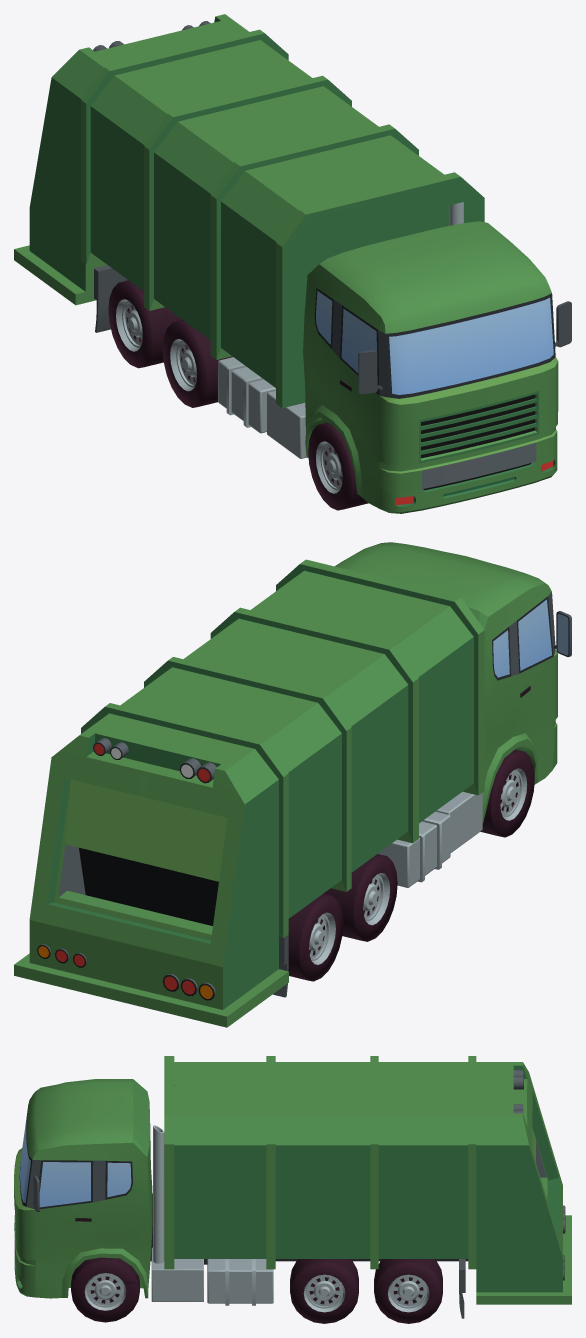
The model's file is Trash_Car.fbx.
3 renders of one model, top to bottom at view 1: azimuth 30°, elevation 25°; view 2: azimuth 150°, elevation 25°; view 3: azimuth 270°, elevation 25°, orthographic. The views are drawn at different scales.
Parts seen in each view (by area): view 1: trash_body, trash_wheel, trash_wheel1, trash_wheel2; view 2: trash_body, trash_wheel1, trash_wheel, trash_wheel2; view 3: trash_body, trash_wheel1, trash_wheel, trash_wheel2.
Part boxes in pixels (<box>): trash_body: <box>14,14,571,513</box>; trash_wheel: <box>108,280,182,368</box>; trash_wheel1: <box>162,320,232,407</box>; trash_wheel2: <box>308,422,368,510</box>; trash_body: <box>14,542,571,1027</box>; trash_wheel1: <box>323,854,397,941</box>; trash_wheel: <box>288,893,343,981</box>; trash_wheel2: <box>480,749,534,837</box>; trash_body: <box>14,1056,571,1318</box>; trash_wheel1: <box>290,1259,358,1323</box>; trash_wheel: <box>374,1259,442,1323</box>; trash_wheel2: <box>71,1257,139,1322</box>.
Bounding box in the file's own units: 0.6403 × 0.7517 × 1.87.
